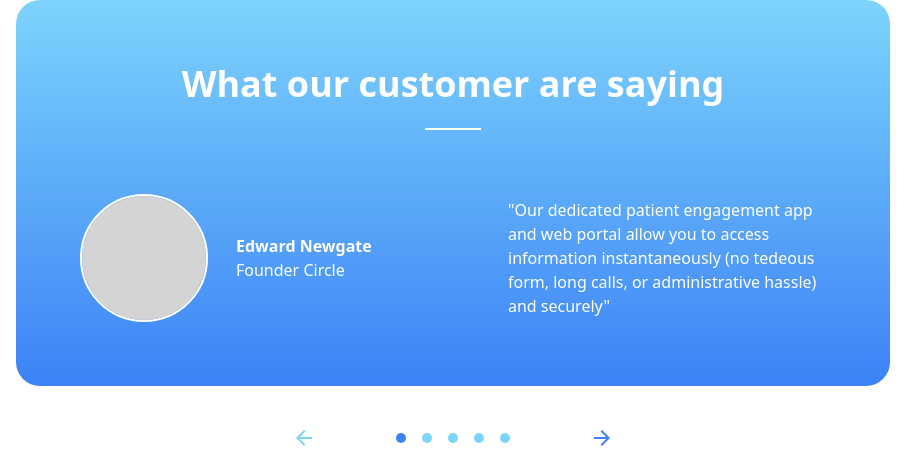
Test: <Depoiments /> › should render prev step when arrow back is clicked
The width and height of the screenshot is (907, 467).
Step 1. Click the element with test id "depoiments-arrow__id-1" → x=427, y=438, box [422, 433, 432, 443]
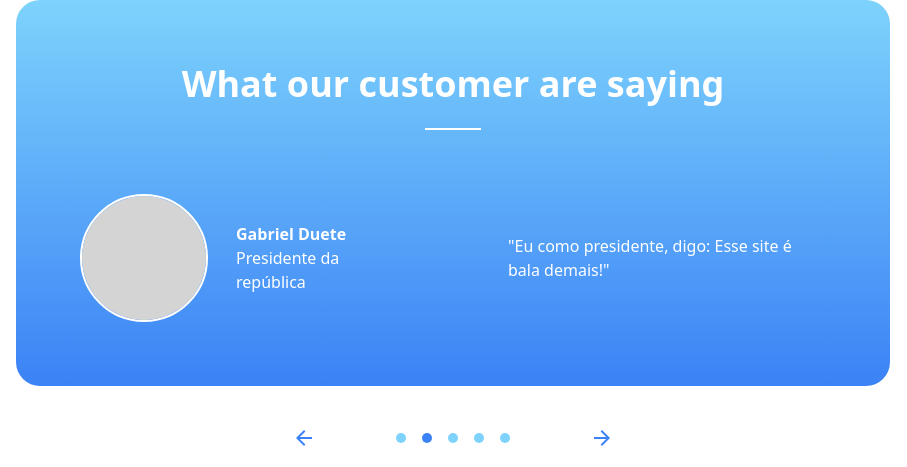
Step 2. Click the icon with test id "depoiments-arrow__id-arrowBack" → x=304, y=438, box [292, 426, 316, 450]
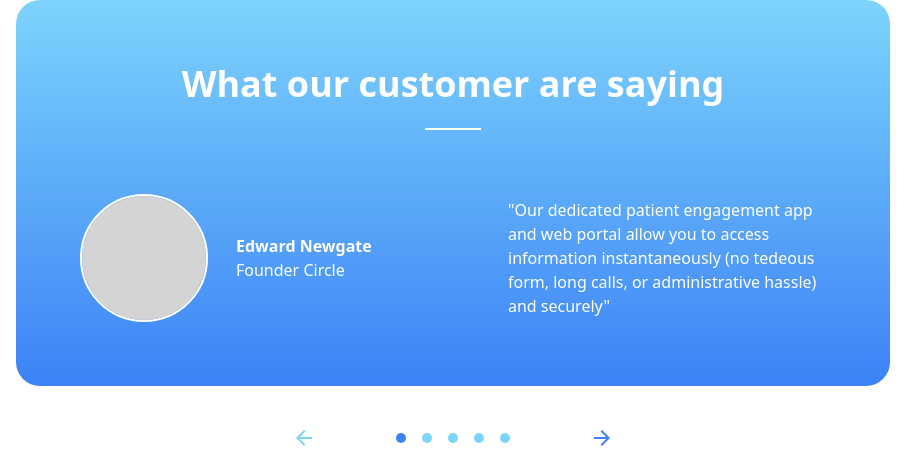
Check: the text "Founder Circle" is shown, box [236, 259, 345, 281]
